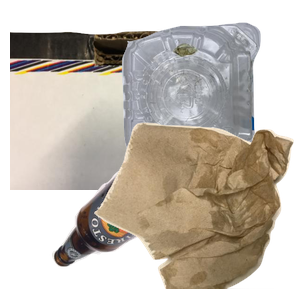cardboard: (10, 29, 250, 209)
glass: (49, 145, 229, 300)
plastic: (119, 20, 300, 190)
trash: (92, 120, 300, 300)
